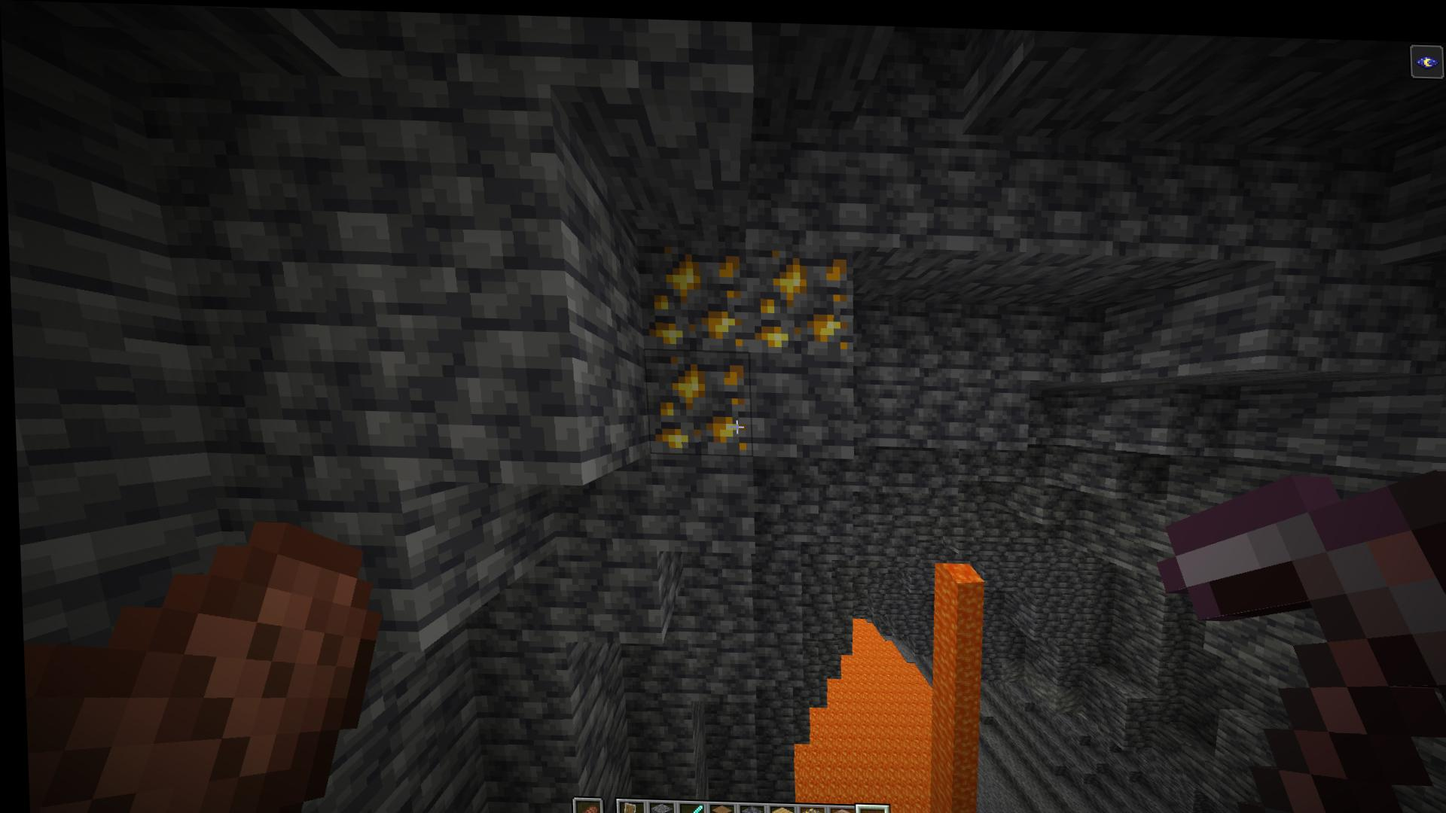gold ore: (635, 234, 745, 344), (743, 239, 850, 350), (640, 347, 747, 452)
